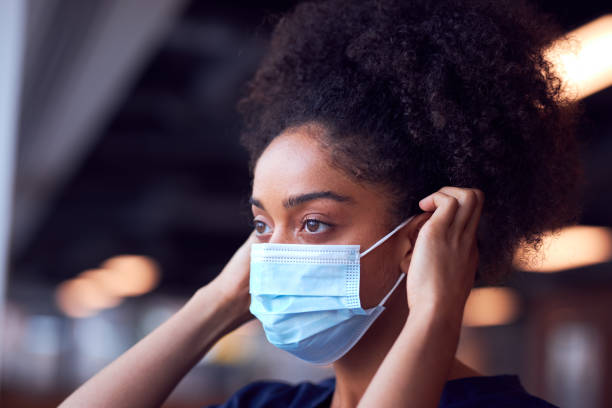with mask: (212, 86, 414, 358)
